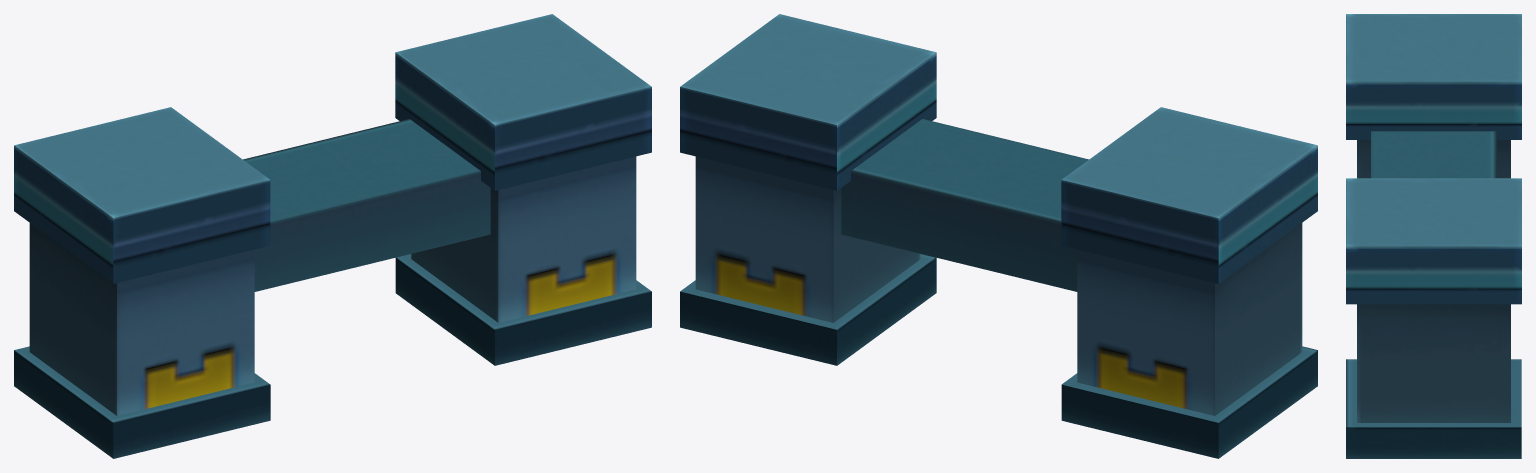
The picture shows the model from 3 angles, left to right: view 1: azimuth 30°, elevation 25°; view 2: azimuth 150°, elevation 25°; view 3: azimuth 270°, elevation 25°; orthographic projection. The views are drawn at different scales.
Parts seen in each view (by area): view 1: anObstacle; view 2: anObstacle; view 3: anObstacle.
Part boxes in pixels (<box>): anObstacle: <box>14,14,651,458</box>; anObstacle: <box>680,14,1317,458</box>; anObstacle: <box>1346,14,1521,458</box>.
Bounding box in the file's own units: 2.31 × 0.986 × 0.7381.
Materials: 1 (1 with a texture image).
